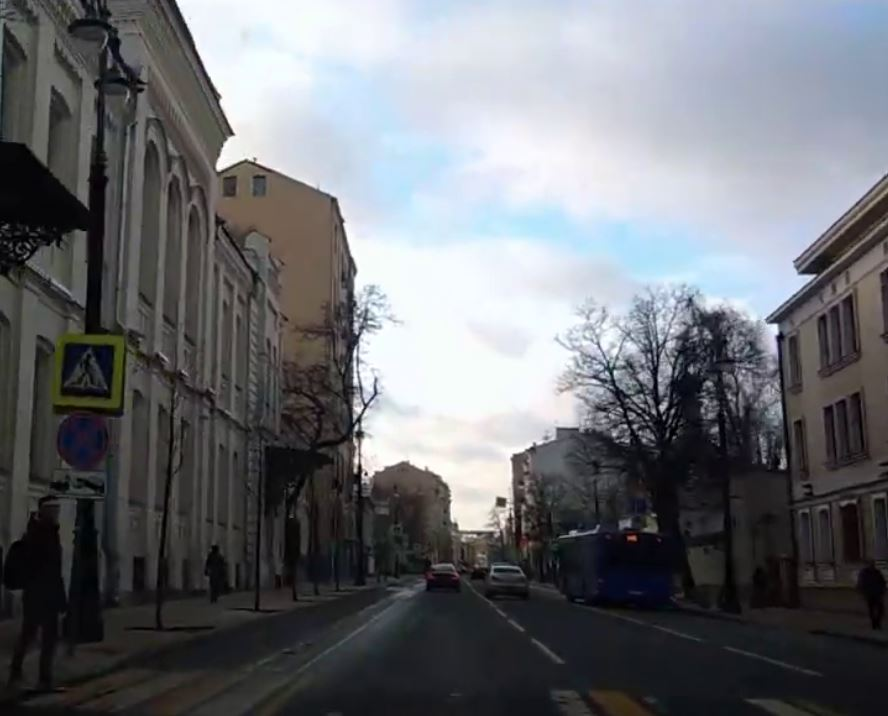Yaya Gecidi: (63, 343, 113, 400)
